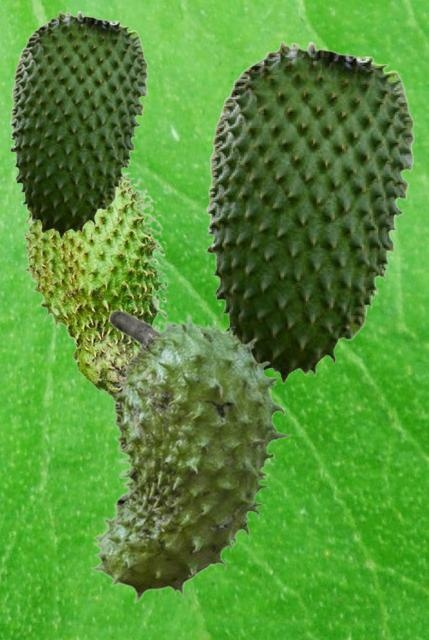guyabano: (205, 40, 414, 383), (89, 309, 292, 603), (21, 171, 169, 400), (9, 10, 147, 238)
